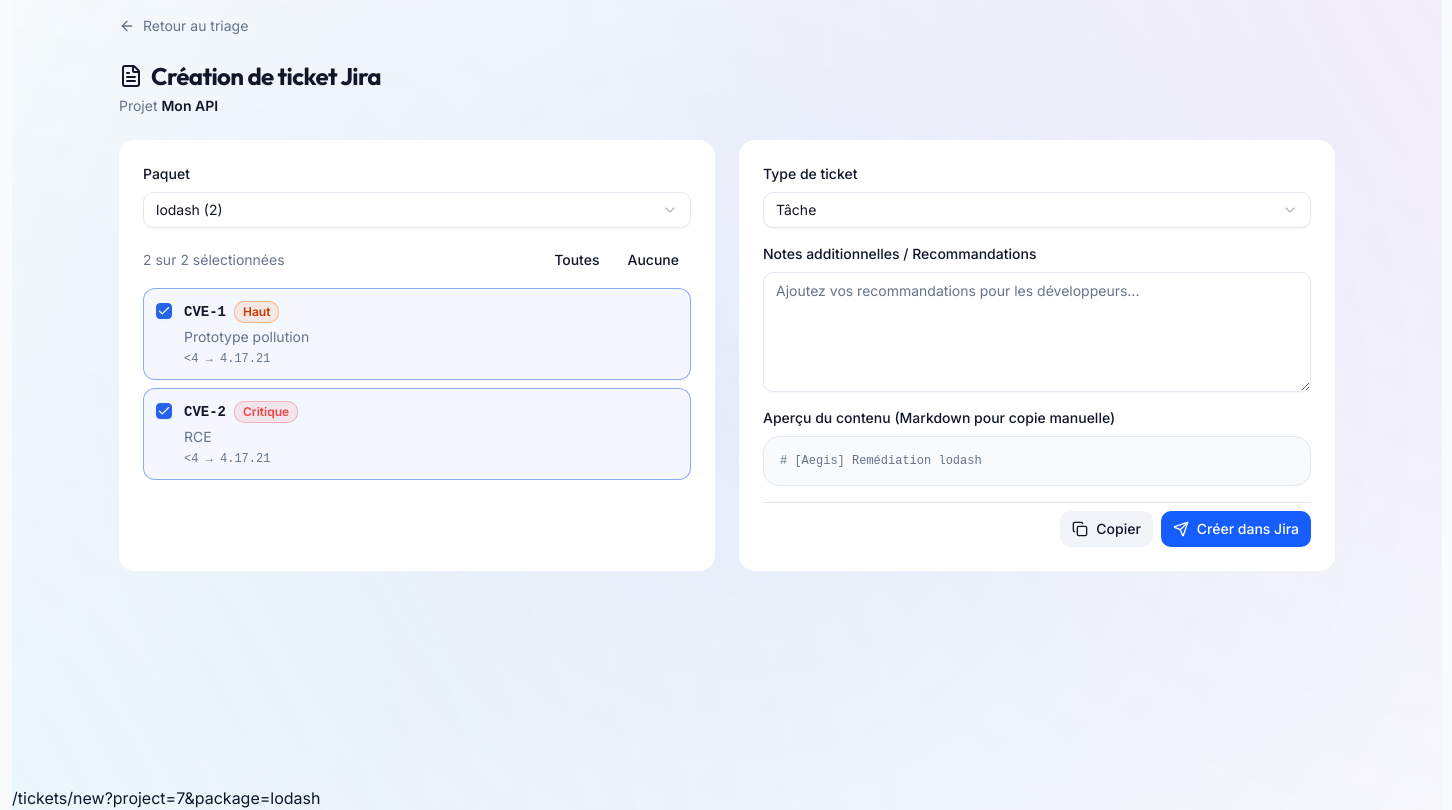
Test: TicketCreate › la création réussie affiche la référence et le lien Jira
The width and height of the screenshot is (1452, 810).
Expected: the text "# [Aegis] Remédiation lodash" is shown, [763,436,1311,486]
Click the button "Créer dans Jira". click: (1236, 529)
box: [1161,511,1311,547]
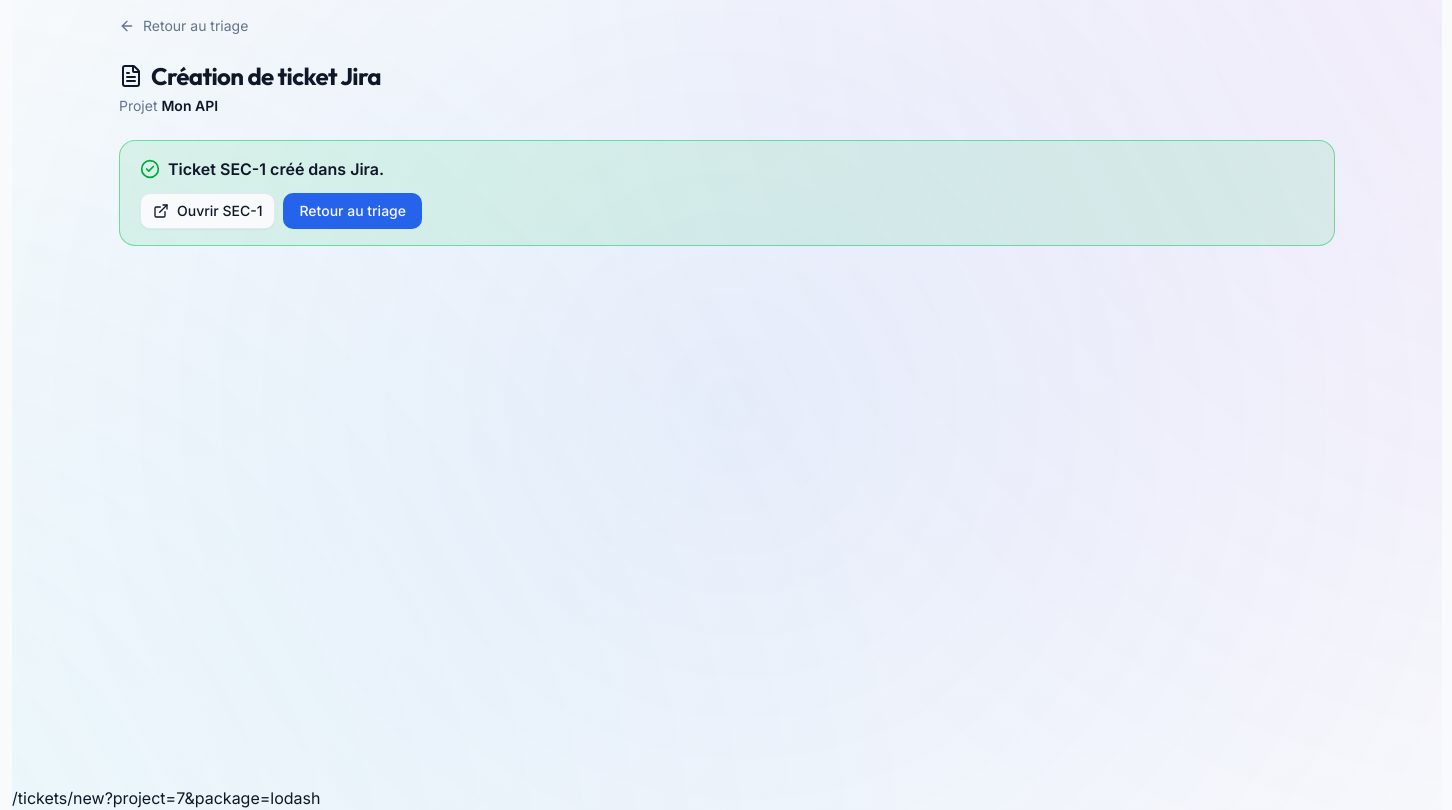
Expected: the message shows "Ticket SEC-1 créé dans Jira.", [119,140,1335,246]
Expected: no checkboxes are shown
